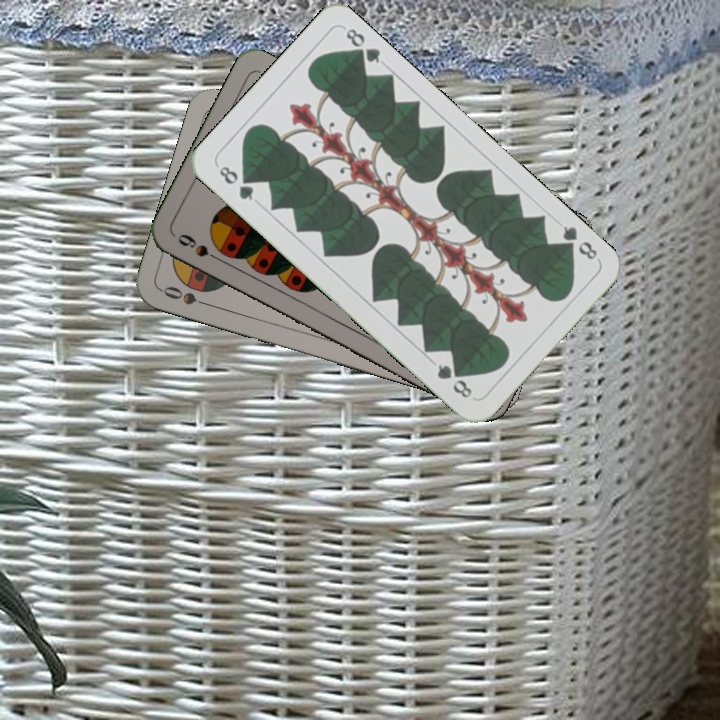G8: (556, 222, 600, 263), (215, 161, 257, 203)
S9: (173, 229, 227, 266)
SO: (159, 282, 216, 310)
